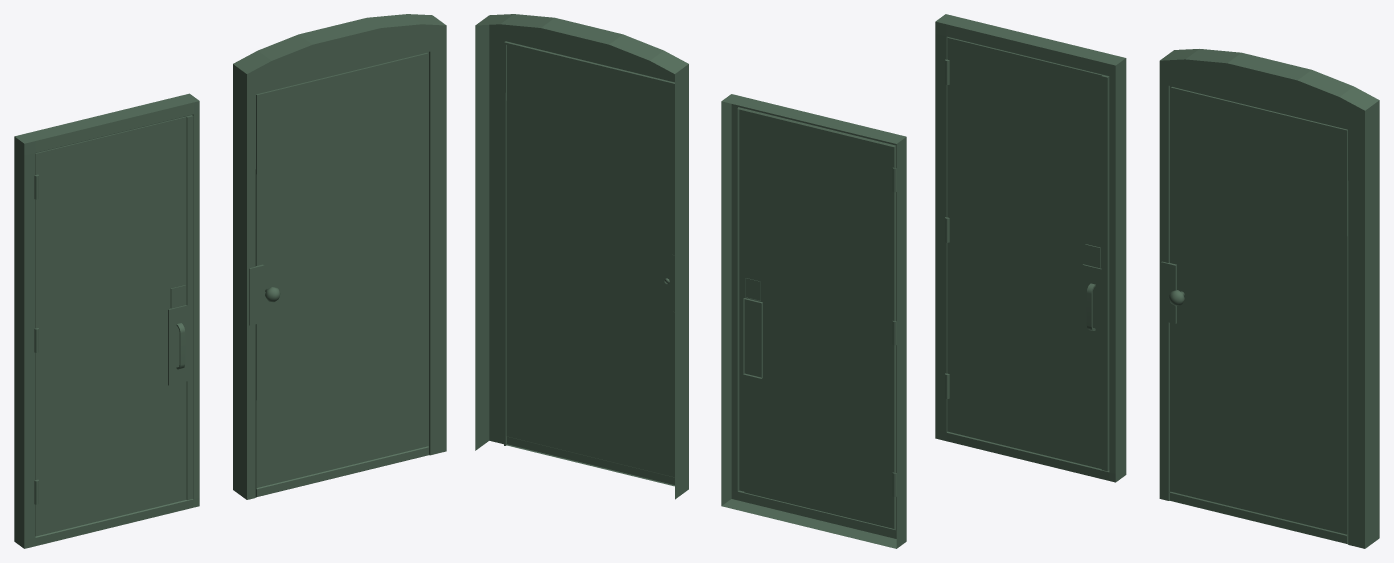
File: ExteriorDoors_low.fbx
3 views of the same model, side by side, from view 1: azimuth 30°, elevation 25°; view 2: azimuth 150°, elevation 25°; view 3: azimuth 330°, elevation 25° (orthographic). The views are drawn at different scales.
Visible parts, largest first — view 1: ApartmentDoor_02_low, Apartment_Door_low; view 2: ApartmentDoor_02_low, Apartment_Door_low; view 3: ApartmentDoor_02_low, Apartment_Door_low.
Part boxes in pixels (x1,y1,x2,y2): ApartmentDoor_02_low: (233,14,446,499); Apartment_Door_low: (14,93,199,548); ApartmentDoor_02_low: (475,14,688,499); Apartment_Door_low: (721,94,906,548); ApartmentDoor_02_low: (1159,49,1379,548); Apartment_Door_low: (935,14,1126,482).
Size of the model in its own units: 2.53 by 2.53 by 0.2297.
